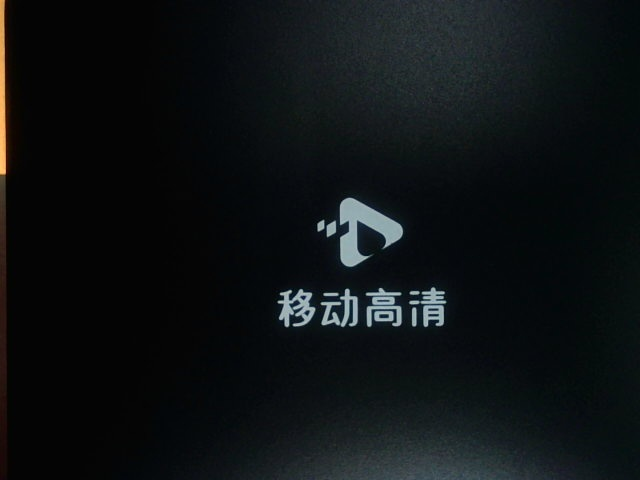AO_MobileHD: (236, 178, 463, 338)
